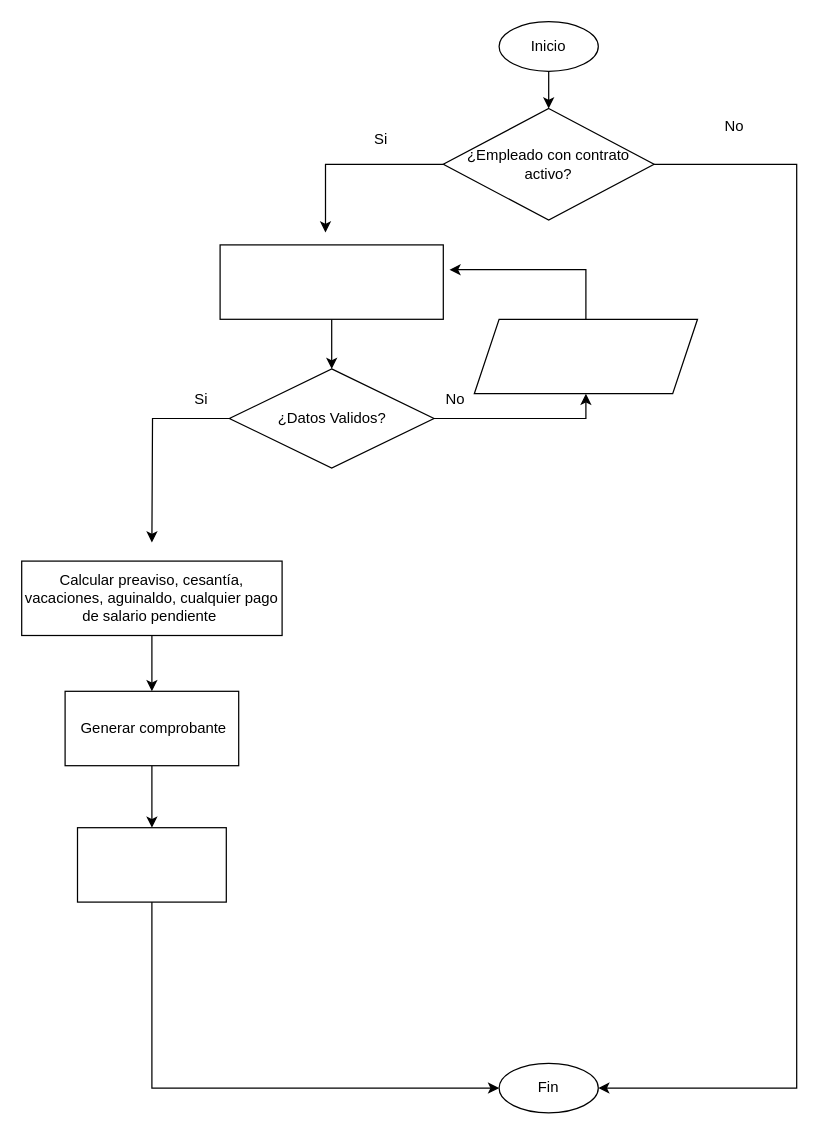
This 828x1135 diagram has some shape labels left out. Here are the shapes that lost their labels. From the top down, the box of each, then its label:
(219, 244, 443, 319): Ingreso de datos para la finalizacion de contrato
(473, 318, 698, 394): Notificar que los datos no son validos
(76, 826, 226, 902): Guardar en la base de datos
